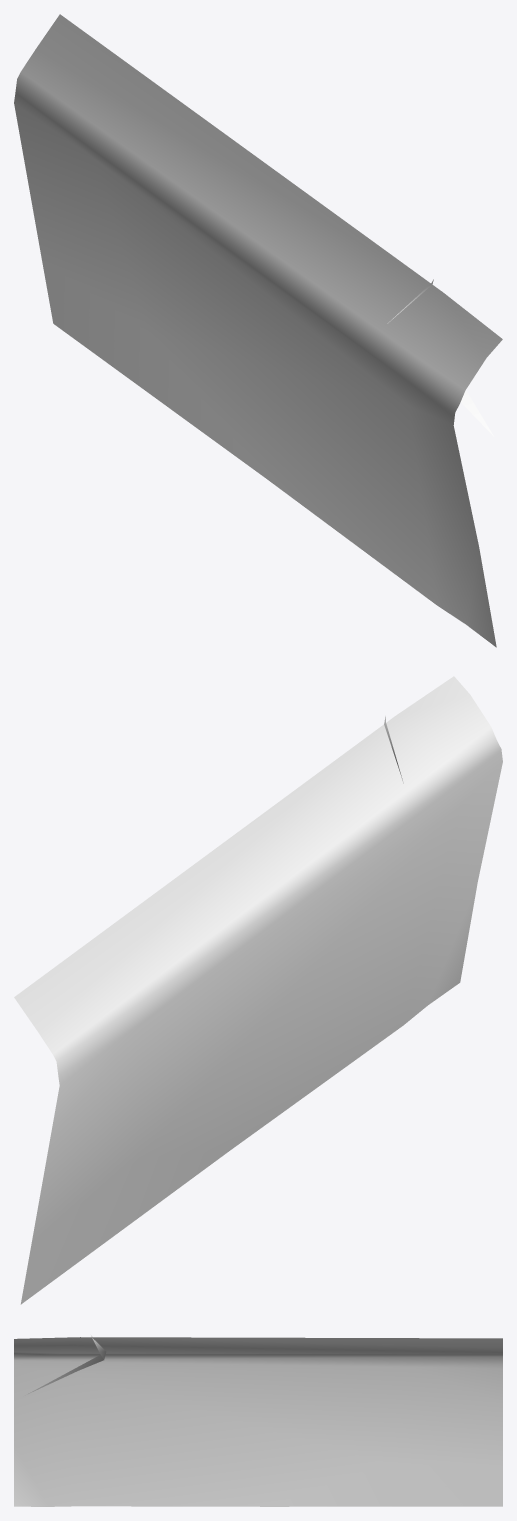
3 views of the same model, one above another, from view 1: azimuth 30°, elevation 25°; view 2: azimuth 150°, elevation 25°; view 3: azimuth 270°, elevation 25° (orthographic). The views are drawn at different scales.
Size of the model in its own units: 0.0766 by 0.462 by 1.17.
1 material, 1 textured.
